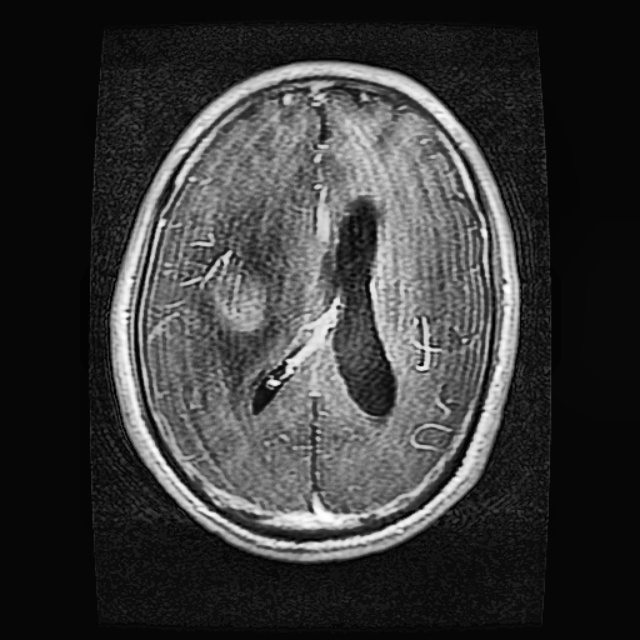Pituitary: (202, 250, 278, 337)
